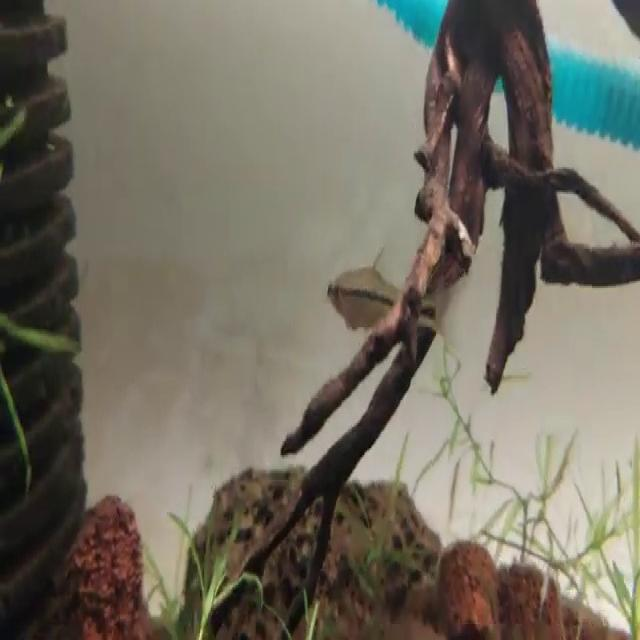Cakil Baligi: (320, 237, 460, 361)
